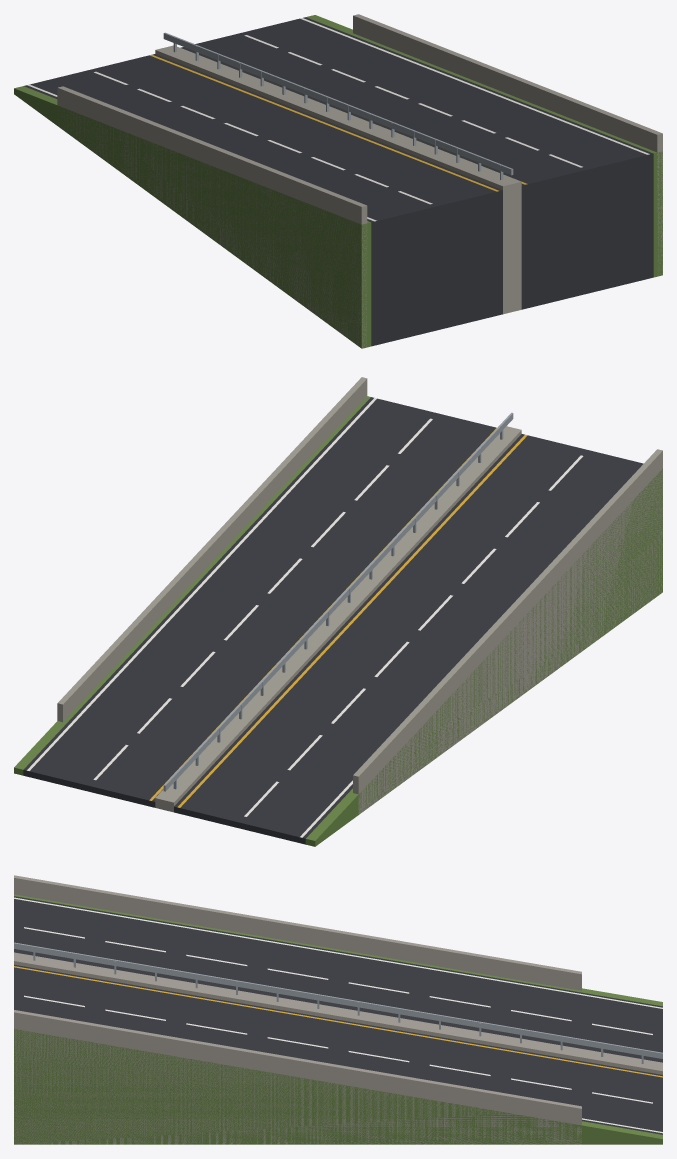
The model's file is Bridge_RampApproach_Highway_32m.glb.
3 views of the same model, one above another, from view 1: azimuth 30°, elevation 25°; view 2: azimuth 150°, elevation 25°; view 3: azimuth 270°, elevation 25° (orthographic). The views are drawn at different scales.
Parts seen in each view (by area): view 1: Bridge_RampApproach_Highway_32m_Asphalt, Bridge_RampApproach_Highway_32m_Concrete, Bridge_RampApproach_Highway_32m_Grass-edge, Bridge_RampApproach_Highway_32m_Metal, Bridge_RampApproach_Highway_32m_PaintWhite, Bridge_RampApproach_Highway_32m_PaintYellow; view 2: Bridge_RampApproach_Highway_32m_Asphalt, Bridge_RampApproach_Highway_32m_Concrete, Bridge_RampApproach_Highway_32m_Grass-edge, Bridge_RampApproach_Highway_32m_PaintWhite, Bridge_RampApproach_Highway_32m_Metal, Bridge_RampApproach_Highway_32m_PaintYellow; view 3: Bridge_RampApproach_Highway_32m_Asphalt, Bridge_RampApproach_Highway_32m_Concrete, Bridge_RampApproach_Highway_32m_Grass-edge, Bridge_RampApproach_Highway_32m_Metal, Bridge_RampApproach_Highway_32m_PaintWhite, Bridge_RampApproach_Highway_32m_PaintYellow.
Part boxes in pixels (x1=…): Bridge_RampApproach_Highway_32m_Asphalt: x1=24, y1=17, x2=653, y2=346; Bridge_RampApproach_Highway_32m_Concrete: x1=57, y1=14, x2=662, y2=348; Bridge_RampApproach_Highway_32m_Grass-edge: x1=14, y1=15, x2=662, y2=348; Bridge_RampApproach_Highway_32m_Metal: x1=163, y1=32, x2=513, y2=179; Bridge_RampApproach_Highway_32m_PaintWhite: x1=27, y1=18, x2=649, y2=221; Bridge_RampApproach_Highway_32m_PaintYellow: x1=149, y1=54, x2=527, y2=191; Bridge_RampApproach_Highway_32m_Asphalt: x1=23, y1=397, x2=643, y2=844; Bridge_RampApproach_Highway_32m_Concrete: x1=57, y1=377, x2=662, y2=814; Bridge_RampApproach_Highway_32m_Grass-edge: x1=14, y1=396, x2=662, y2=846; Bridge_RampApproach_Highway_32m_PaintWhite: x1=27, y1=398, x2=583, y2=837; Bridge_RampApproach_Highway_32m_Metal: x1=163, y1=412, x2=513, y2=791; Bridge_RampApproach_Highway_32m_PaintYellow: x1=149, y1=428, x2=527, y2=807; Bridge_RampApproach_Highway_32m_Asphalt: x1=14, y1=896, x2=662, y2=1134; Bridge_RampApproach_Highway_32m_Concrete: x1=14, y1=875, x2=662, y2=1144; Bridge_RampApproach_Highway_32m_Grass-edge: x1=14, y1=894, x2=662, y2=1144; Bridge_RampApproach_Highway_32m_Metal: x1=14, y1=942, x2=662, y2=1063; Bridge_RampApproach_Highway_32m_PaintWhite: x1=14, y1=897, x2=662, y2=1133; Bridge_RampApproach_Highway_32m_PaintYellow: x1=14, y1=966, x2=662, y2=1077.
Size of the model in its own units: 16 by 7.25 by 32.
